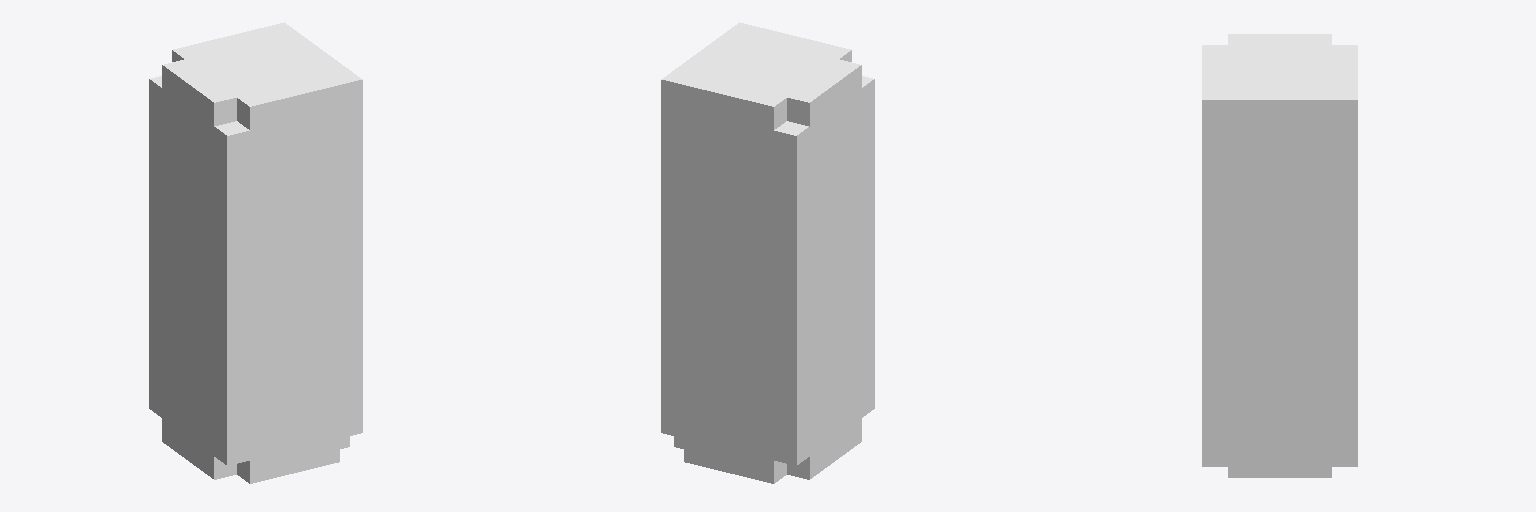
File: male_02-2.obj
The picture shows the model from 3 angles: view 1: azimuth 30°, elevation 25°; view 2: azimuth 150°, elevation 25°; view 3: azimuth 270°, elevation 25°; orthographic projection.
Parts seen in each view (by area): view 1: male_02-2; view 2: male_02-2; view 3: male_02-2.
Boxes of the visible parts, <box> form: male_02-2: <box>149,22,362,483</box>; male_02-2: <box>661,22,874,483</box>; male_02-2: <box>1202,34,1357,477</box>.
Size of the model in its own units: 6 by 16 by 6.